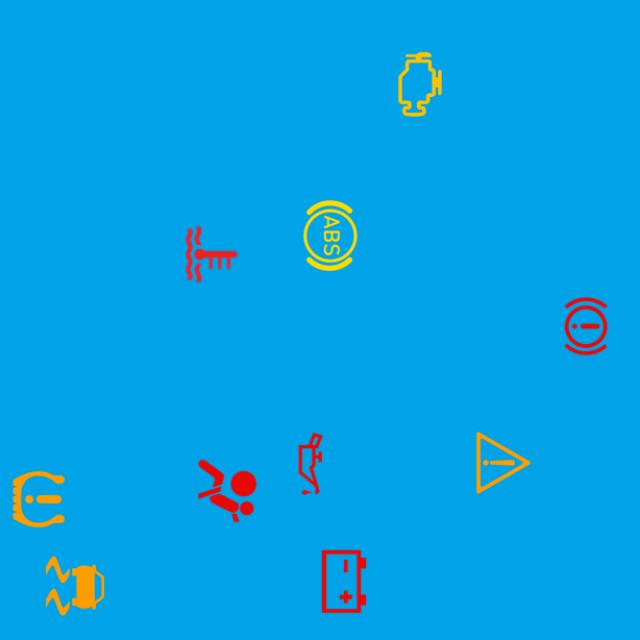Anti Lock Braking System: (292, 197, 369, 274)
Braking System Issue: (548, 288, 624, 365)
Charging System Issue: (306, 543, 382, 620)
Check Engine: (382, 46, 458, 123)
Electronic Stability Problem -ESP-: (36, 548, 114, 624)
Engine Overheating Warning Light: (173, 216, 250, 293)
Low Engine Oil Warning Light: (272, 426, 349, 502)
Low Tire Pressure Warning Light: (0, 461, 77, 538)
Master warning light: (465, 424, 542, 502)
SRS-Airbag: (188, 452, 266, 530)
